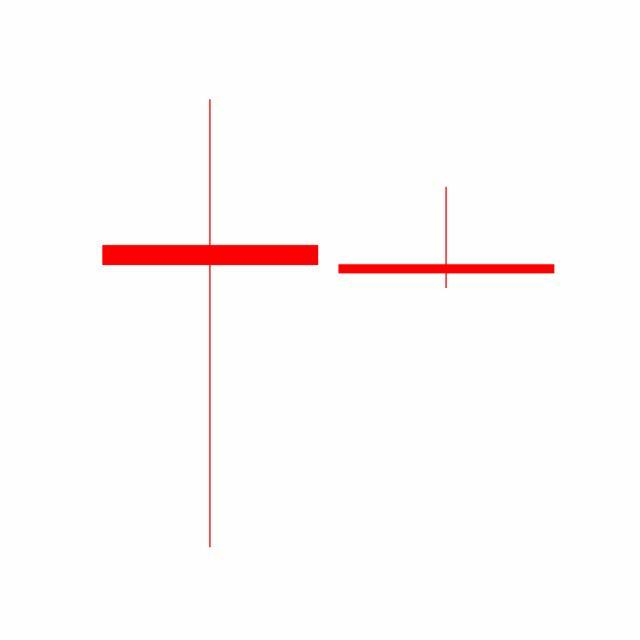Gravestone Doji: (328, 185, 566, 290)
